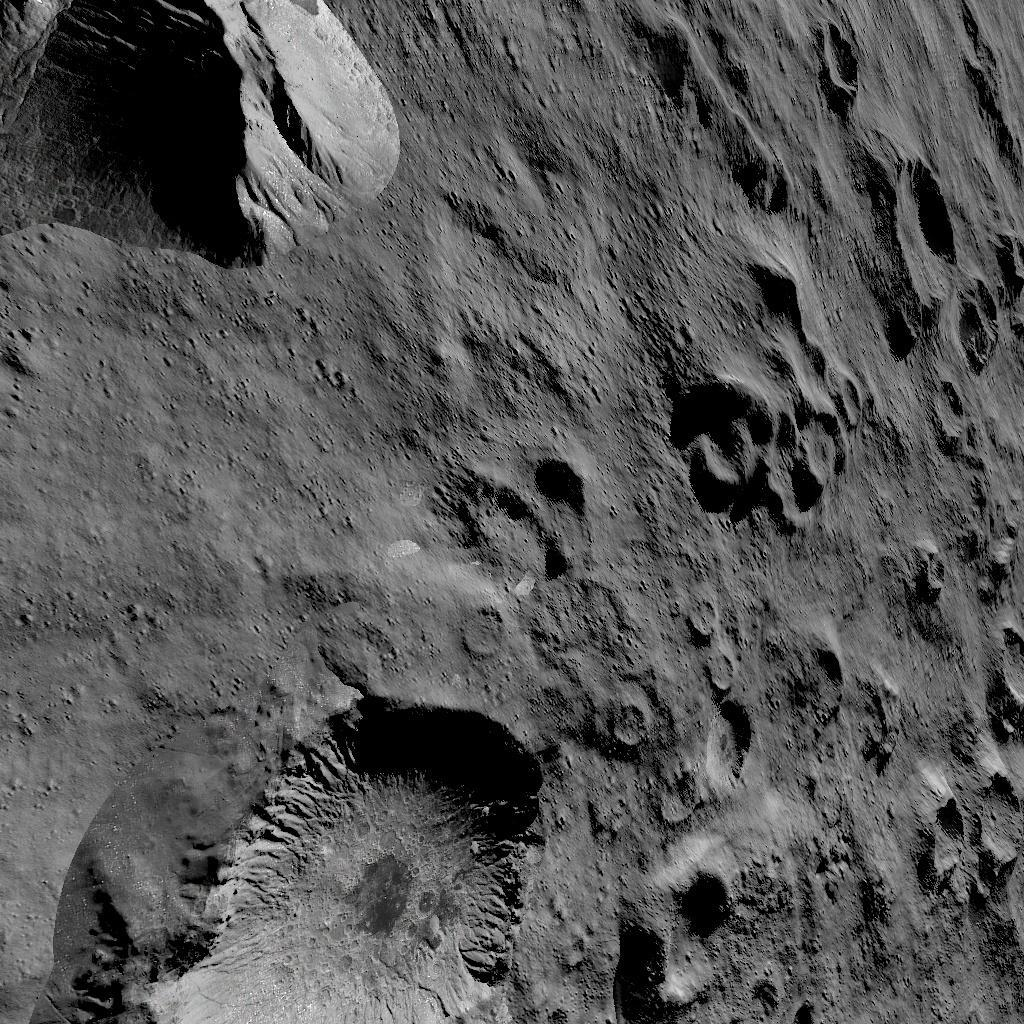Boulders: (0, 0, 399, 281)
Crater: (63, 698, 560, 1024), (857, 156, 1024, 364), (659, 375, 869, 532), (897, 772, 1024, 962), (435, 452, 605, 588), (607, 850, 741, 1014), (673, 596, 754, 793), (723, 244, 821, 348), (957, 620, 1024, 746), (781, 638, 852, 726), (795, 20, 863, 106), (451, 596, 511, 664), (911, 374, 967, 442), (595, 696, 647, 753)
Plan surface: (0, 290, 423, 681), (433, 0, 639, 441)
